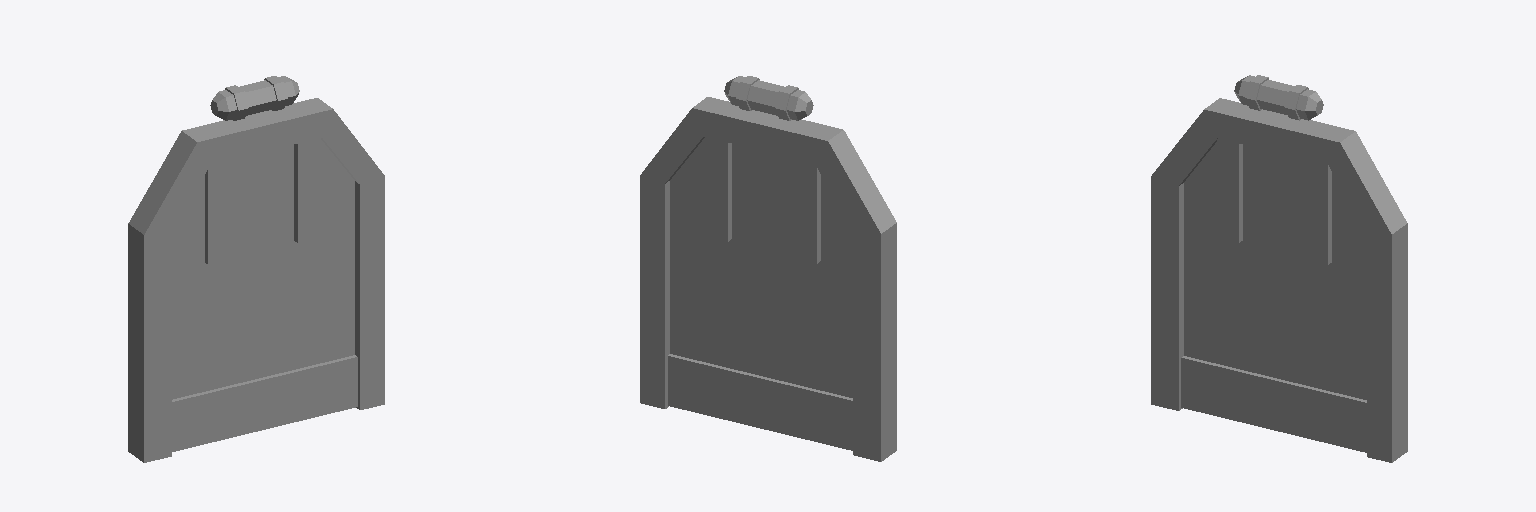
Rendered from Door-Security.obj.
The picture shows the model from 3 angles: view 1: azimuth 30°, elevation 25°; view 2: azimuth 150°, elevation 25°; view 3: azimuth 330°, elevation 25°; orthographic projection.
Visible parts, largest first — view 1: Cube.156_Cube.181, Cube.157_Cube.182, Cube.154_Cube.179, Cube.155_Cube.180, Cylinder.028_Cylinder.013; view 2: Cube.156_Cube.181, Cube.157_Cube.182, Cube.154_Cube.179, Cube.155_Cube.180, Cylinder.028_Cylinder.013; view 3: Cube.156_Cube.181, Cube.157_Cube.182, Cube.155_Cube.180, Cube.154_Cube.179, Cylinder.028_Cylinder.013.
Part boxes in pixels (x1,y1,x2,y2): Cube.156_Cube.181: (172, 138, 357, 451); Cube.157_Cube.182: (128, 98, 384, 462); Cube.154_Cube.179: (294, 138, 318, 242); Cube.155_Cube.180: (205, 160, 229, 264); Cylinder.028_Cylinder.013: (210, 76, 299, 120); Cube.156_Cube.181: (668, 137, 852, 450); Cube.157_Cube.182: (640, 97, 896, 461); Cube.154_Cube.179: (706, 137, 731, 241); Cube.155_Cube.180: (796, 159, 820, 263); Cylinder.028_Cylinder.013: (724, 76, 813, 120); Cube.156_Cube.181: (1181, 142, 1366, 452); Cube.157_Cube.182: (1151, 98, 1407, 462); Cube.155_Cube.180: (1217, 139, 1242, 242); Cube.154_Cube.179: (1307, 160, 1331, 264); Cylinder.028_Cylinder.013: (1234, 75, 1323, 120).
Bounding box in the file's own units: 3.68 × 5.01 × 0.4592.